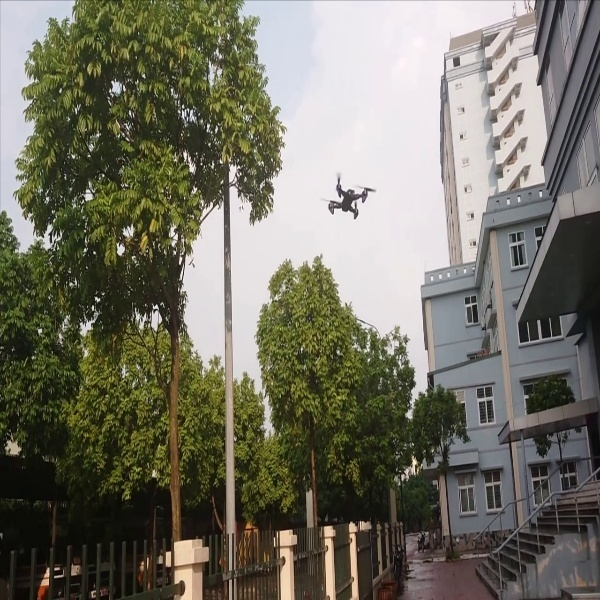drone: (319, 166, 377, 230)
